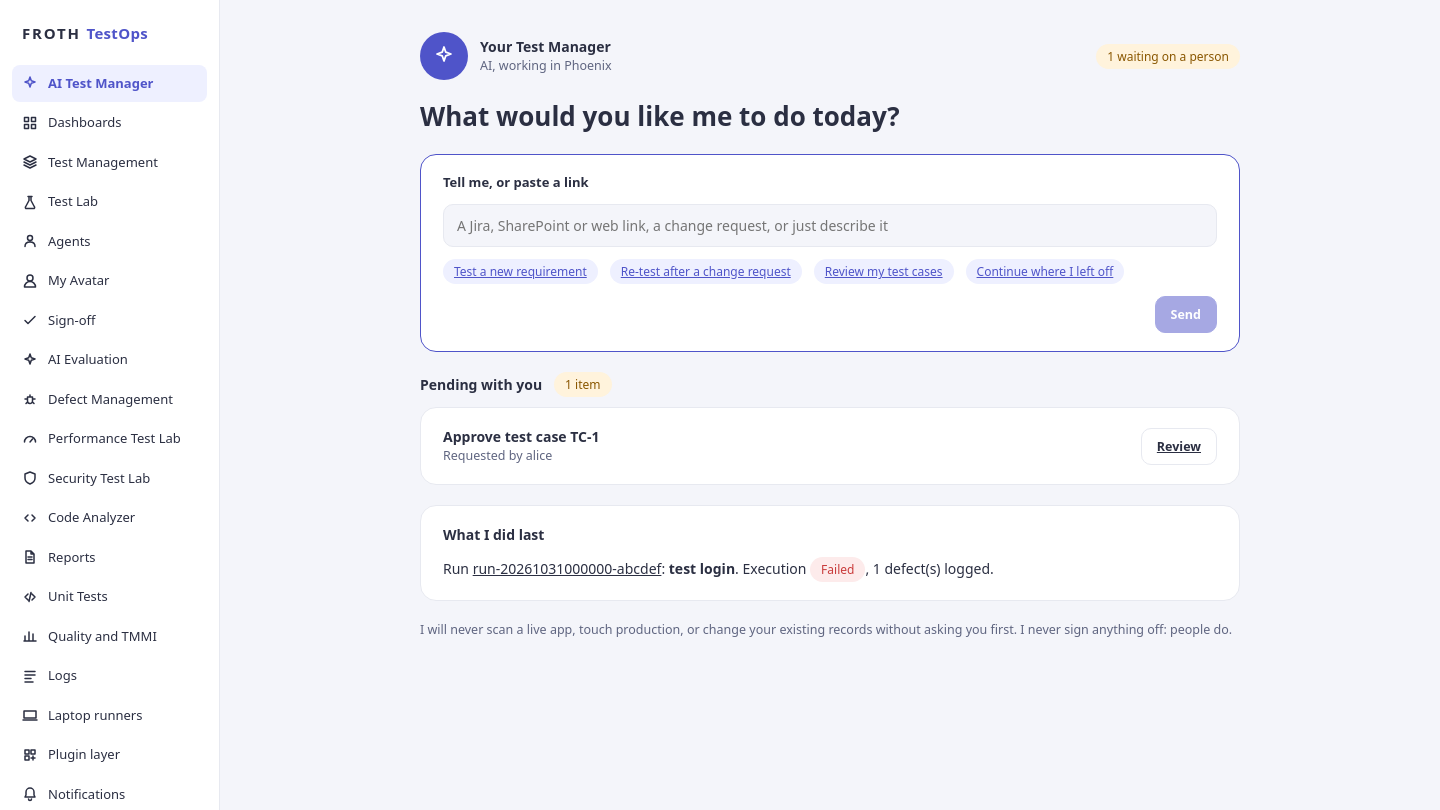
Test: shell › landing sends a pasted link as a requirement URL and plans only the safe stages
In the field labelled "Tell me, or paste a link": (830, 226) left=443, top=204, right=1217, bottom=247, type "https://example.com/req.pdf"
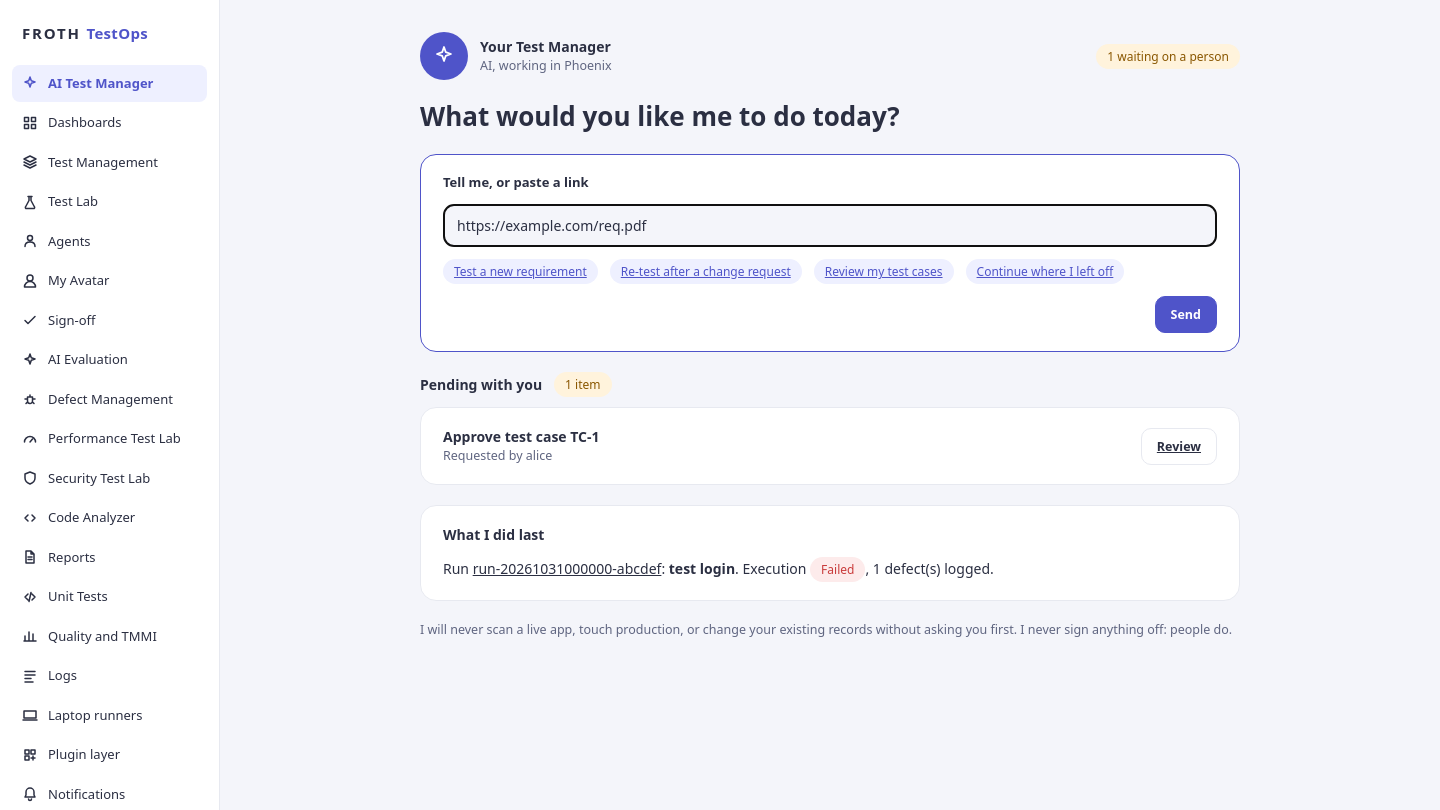
Click the button "Send": click(1186, 315) left=1155, top=296, right=1217, bottom=333
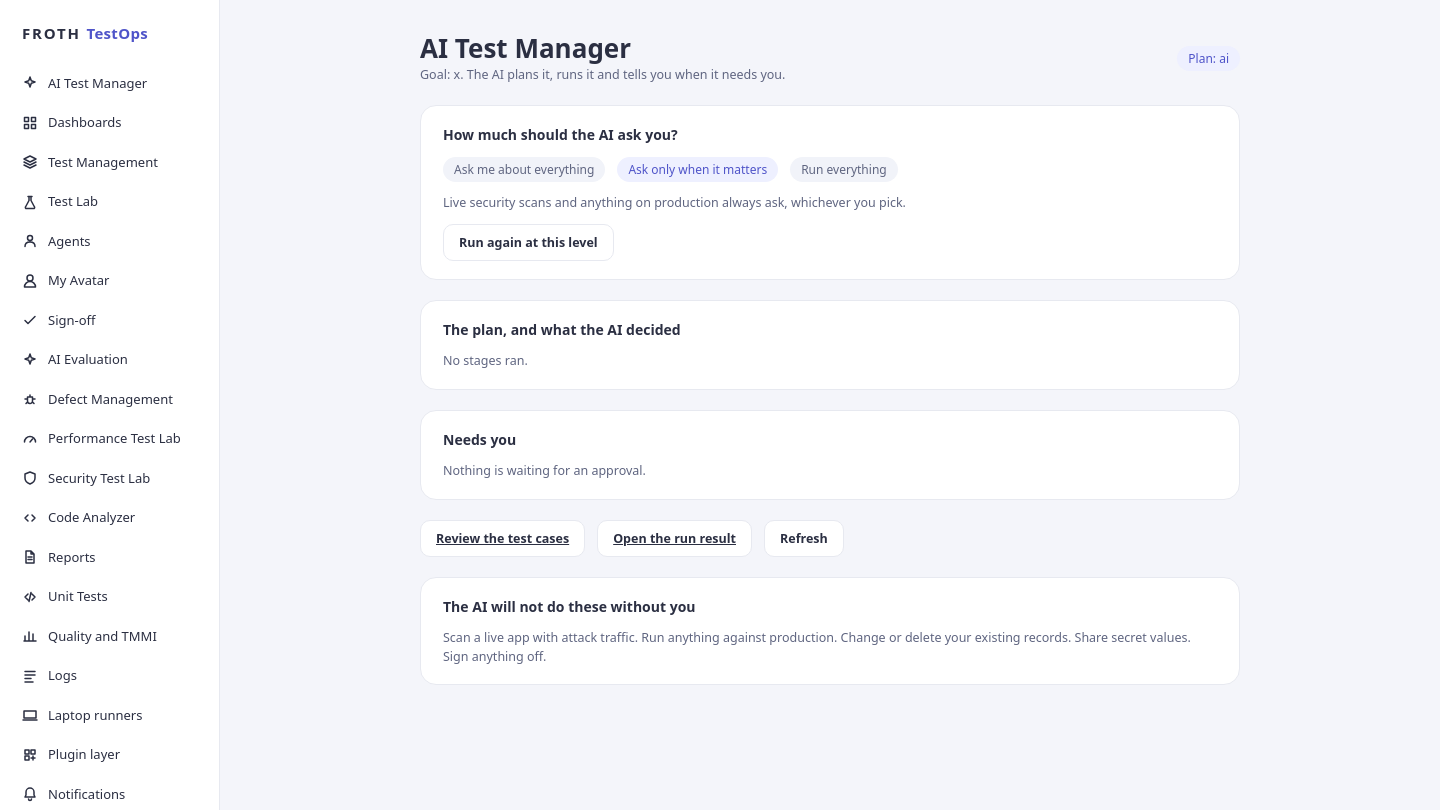
Now the heading "AI Test Manager" is shown, box left=420, top=30, right=631, bottom=66
